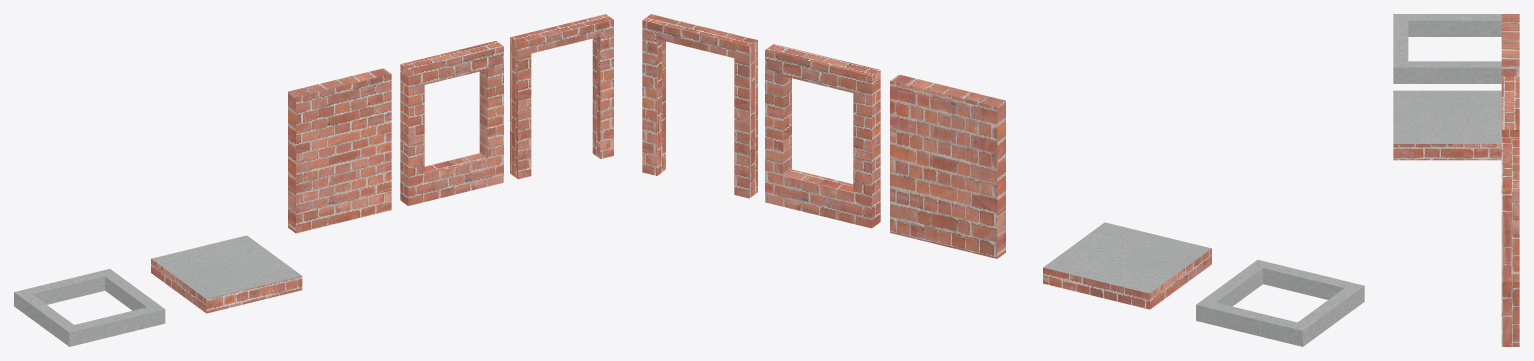
File: tenement_house_tiles.glb
3 renders of one model, left to right at view 1: azimuth 30°, elevation 25°; view 2: azimuth 150°, elevation 25°; view 3: azimuth 270°, elevation 25°, orthographic. The views are drawn at different scales.
Visible parts, largest first — view 1: Wall, Window, Door, Floor, Hole; view 2: Wall, Window, Door, Floor, Hole; view 3: Floor, Hole, Door, Wall, Window.
Boxes of the visible parts, x1,y1,x2,y2 form: Wall: (288,68,391,233); Window: (400,41,503,205); Door: (510,14,613,179); Floor: (151,235,302,313); Hole: (14,269,165,346); Wall: (890,74,1005,258); Window: (765,44,880,228); Door: (642,14,757,198); Floor: (1043,222,1211,309); Hole: (1196,259,1364,346); Floor: (1393,90,1501,160); Hole: (1393,14,1501,83); Door: (1501,138,1519,346); Wall: (1501,14,1519,76); Window: (1501,76,1519,137).
Size of the model in its own units: 12.96 by 3.1 by 2.1.
2 materials, 2 textured.
